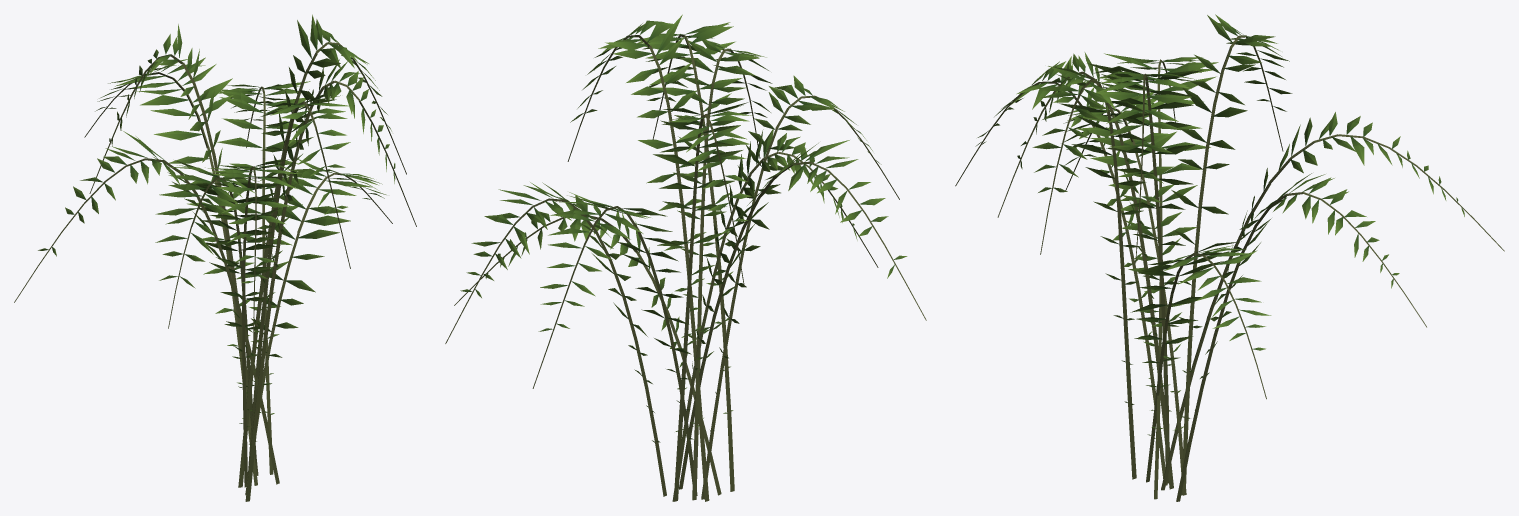
Rendered from forest_fern_001_a_LOD1.gltf.
3 renders of one model, left to right at view 1: azimuth 30°, elevation 25°; view 2: azimuth 150°, elevation 25°; view 3: azimuth 270°, elevation 25°, orthographic. The views are drawn at different scales.
Parts seen in each view (by area): view 1: forest_fern_001_a_LOD1; view 2: forest_fern_001_a_LOD1; view 3: forest_fern_001_a_LOD1.
Boxes of the visible parts, left/top/right/bottom form: forest_fern_001_a_LOD1: left=14, top=14, right=416, bottom=501; forest_fern_001_a_LOD1: left=445, top=14, right=926, bottom=501; forest_fern_001_a_LOD1: left=955, top=14, right=1504, bottom=501.
Bounding box in the file's own units: 2.06 × 2.06 × 2.25.
1 material, 1 textured.
